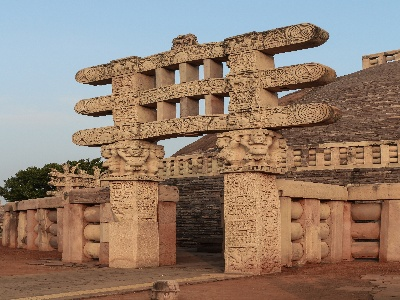torana: (54, 31, 334, 199)
